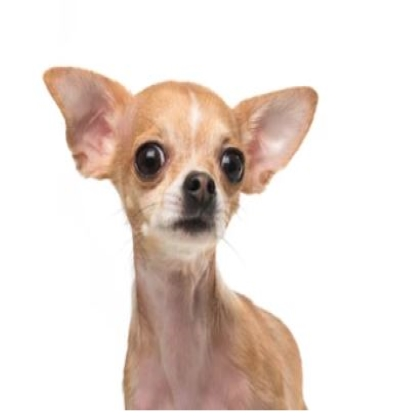chihuahua: (42, 62, 326, 412)
